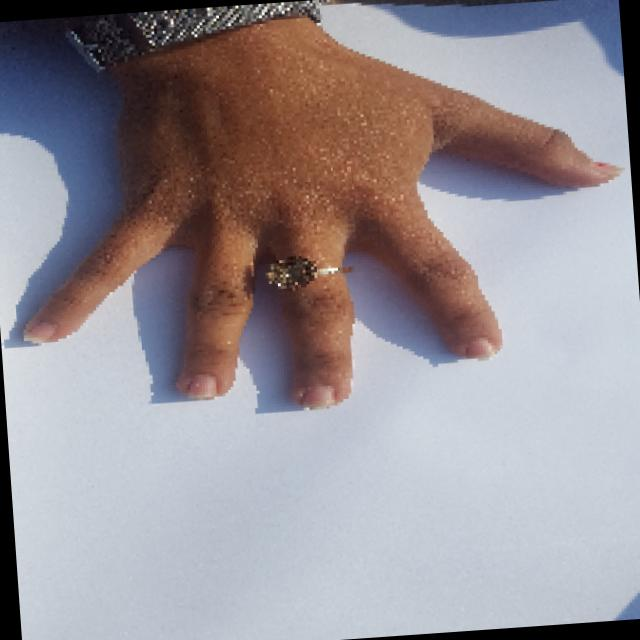Nail: (185, 373, 217, 399), (300, 386, 336, 408), (465, 337, 497, 359), (24, 322, 56, 342), (592, 161, 623, 180)
